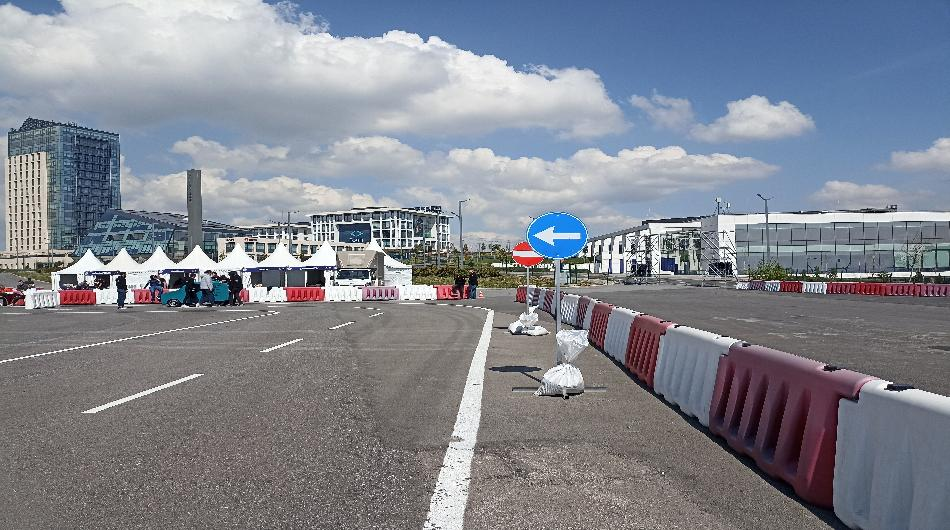girilmez: (513, 241, 541, 268)
sola_mecburi_1: (528, 210, 591, 260)
